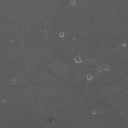corrosion: (73, 55, 84, 64), (86, 73, 93, 81), (58, 31, 65, 38), (69, 1, 77, 7), (10, 79, 17, 85), (122, 42, 128, 48), (92, 110, 97, 115)
